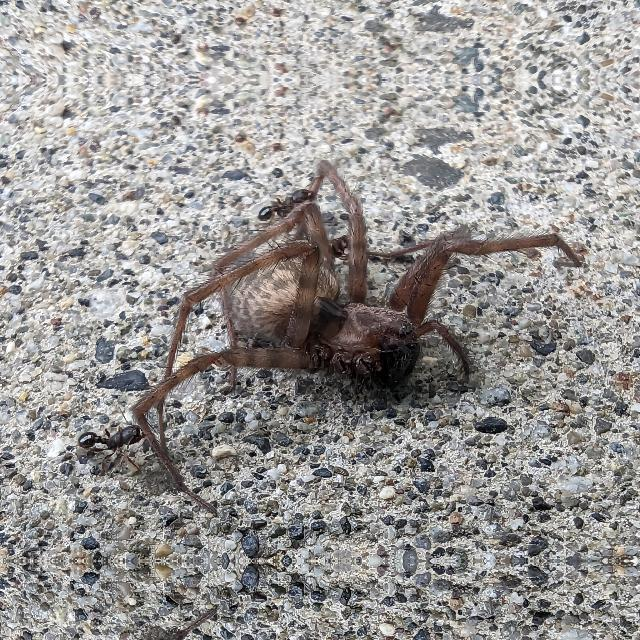Tetramorium: (66, 406, 148, 468), (252, 180, 326, 226)
